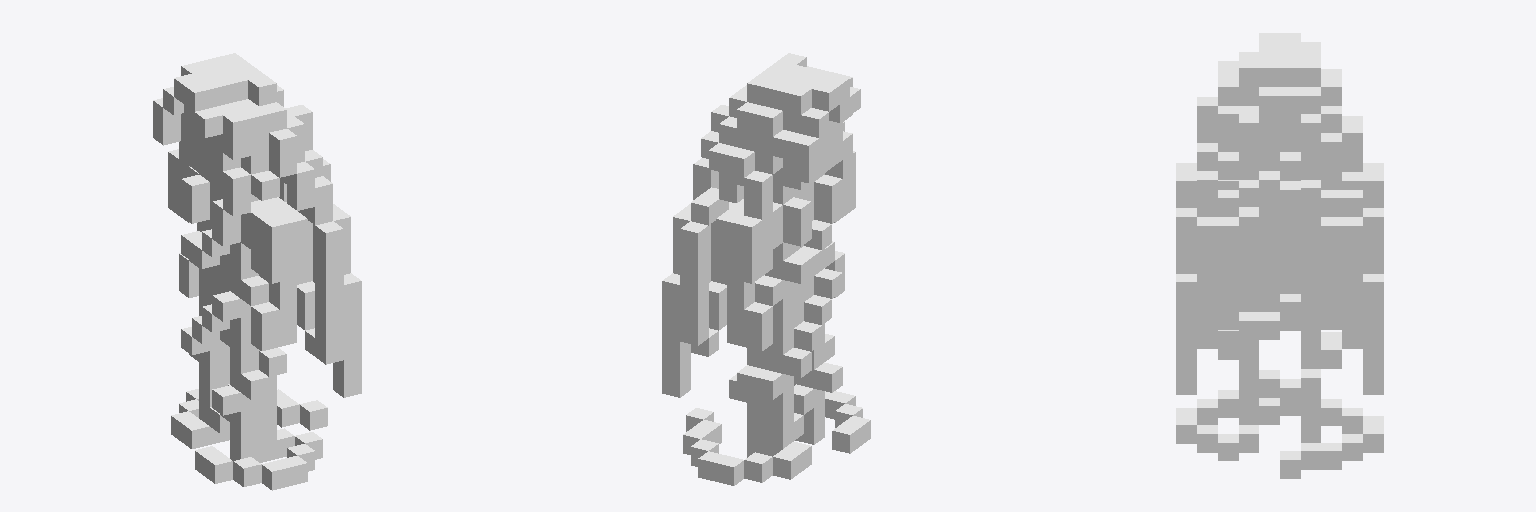
File: colorful_girl.obj
3 renders of one model, left to right at view 1: azimuth 30°, elevation 25°; view 2: azimuth 150°, elevation 25°; view 3: azimuth 270°, elevation 25°, orthographic.
Visible parts, largest first — view 1: colorful_girl; view 2: colorful_girl; view 3: colorful_girl.
Part boxes in pixels (x1,y1,x2,y2): colorful_girl: (153,53,361,490); colorful_girl: (662,53,870,485); colorful_girl: (1176,33,1383,478).
Size of the model in its own units: 8 by 20 by 10.